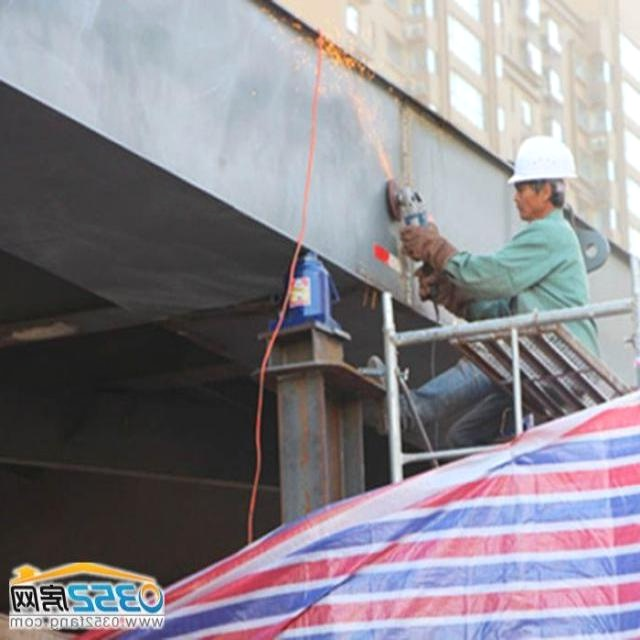Con_Casco: (507, 132, 577, 215)
